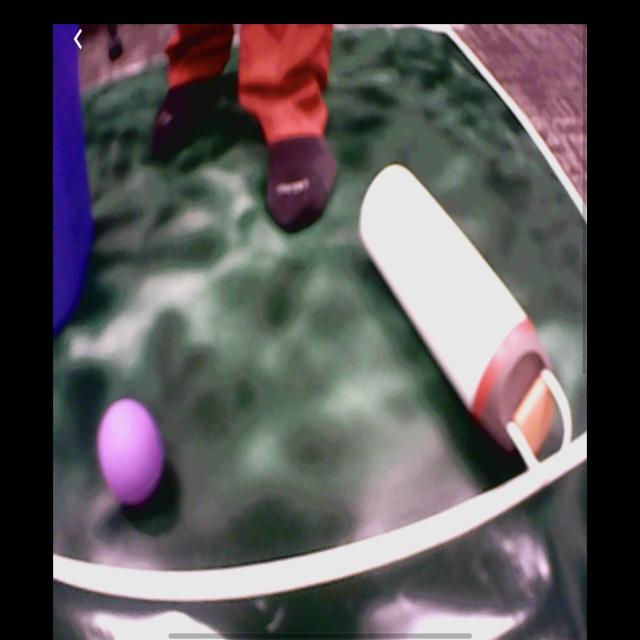ball: (98, 400, 165, 511)
